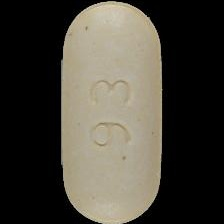21695-176: (0, 0, 224, 224)
